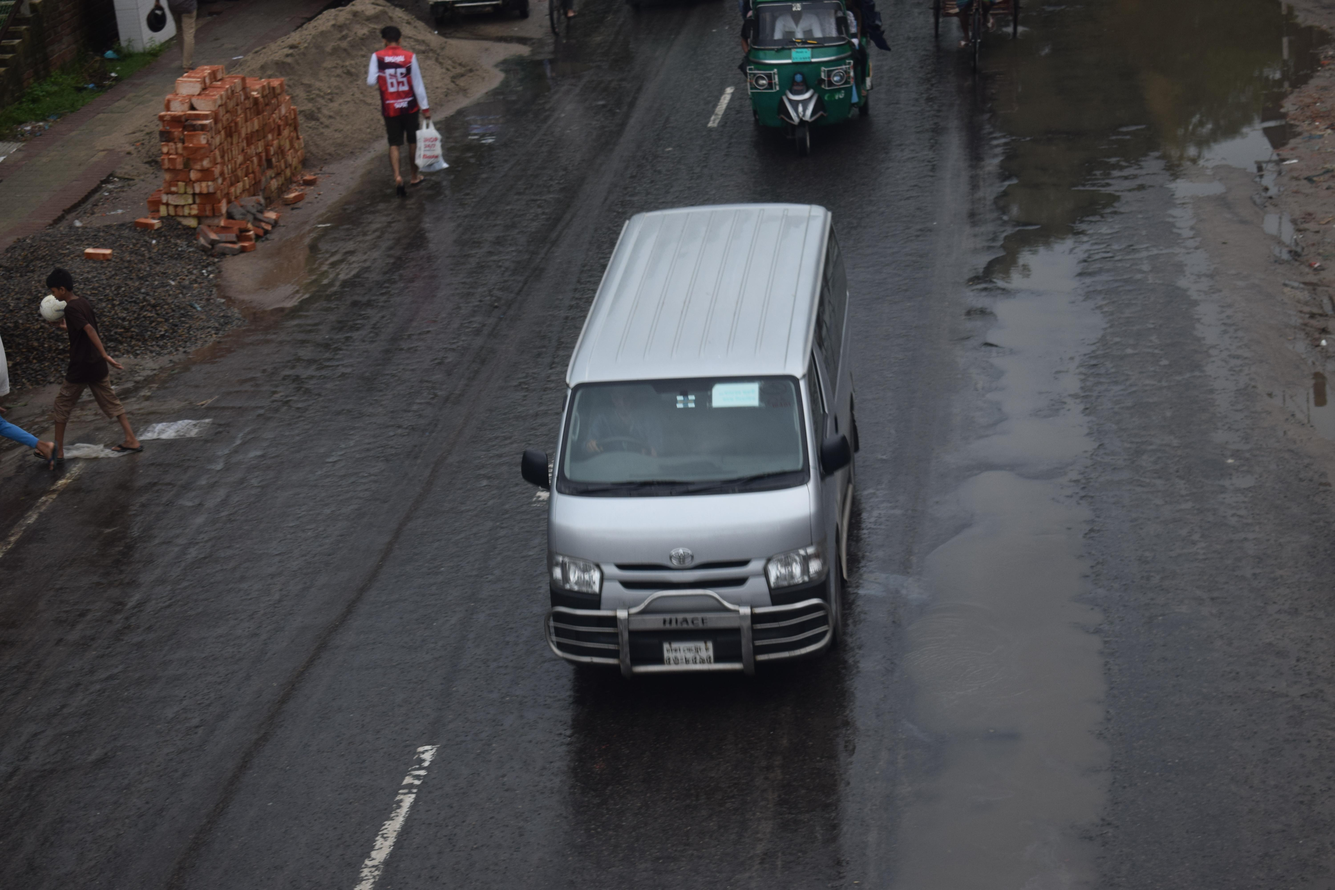Car: (456, 152, 978, 726)
